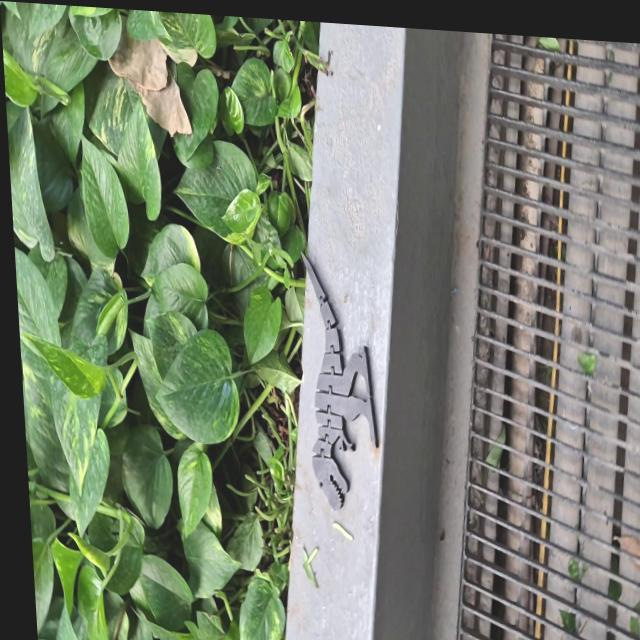dino: (299, 250, 384, 514)
